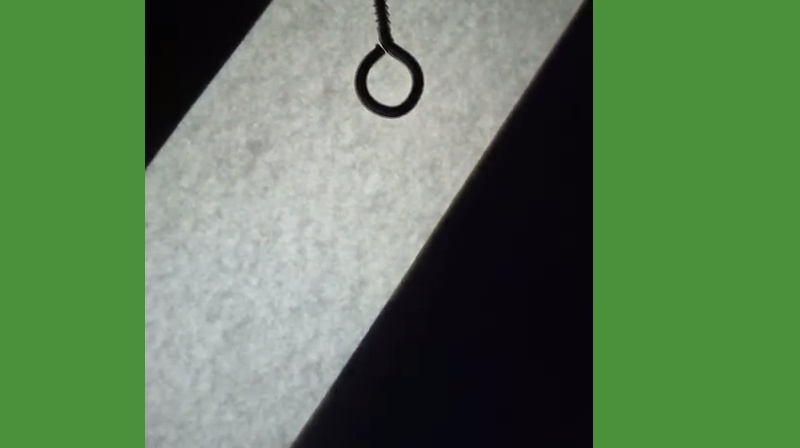O001: (351, 0, 425, 120)
